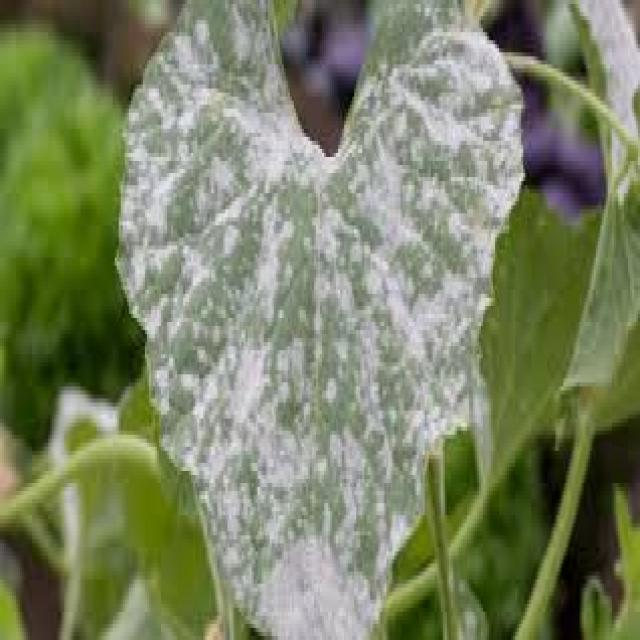powdery-mildew: (154, 24, 483, 638), (575, 0, 640, 169)
